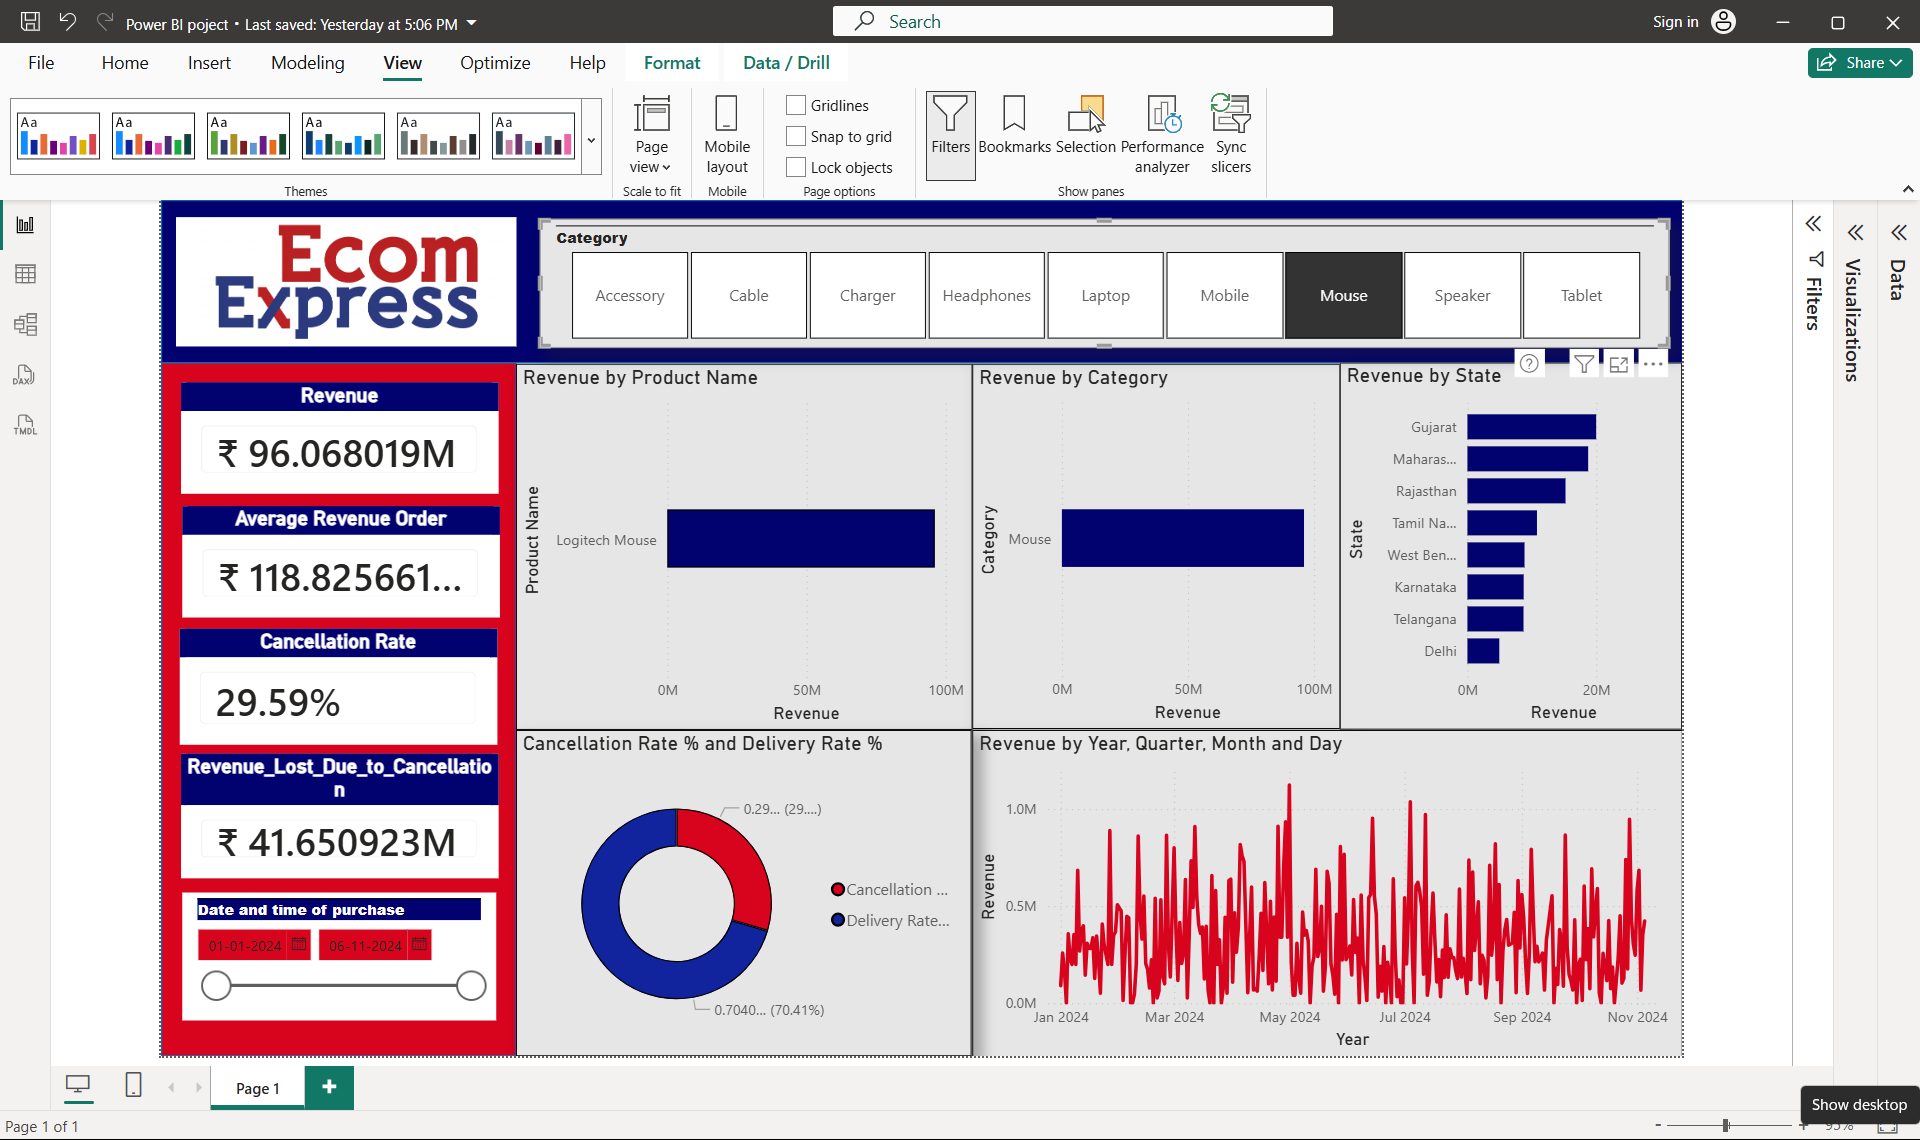

Layout of this report page (visuals, bound fields, positions):
{"tool":"powerbi","page":{"name":"Page 1","canvas":[1280,720],"ordinal":0},"visuals":[{"type":"shape","box":[0,0,1280.3,137.2],"z":0},{"type":"shape","box":[0,136.9,299,583.6],"z":1000},{"type":"image","box":[12.3,0,286.8,137.2],"z":2000},{"type":"barChart","fields":{"Y":["table.Revenue"],"Category":["Products.Product Name"]},"box":[298.6,137.7,383.8,308.1],"z":3000},{"type":"barChart","fields":{"Category":["Products.Category"],"Y":["table.Revenue"]},"box":[682,138.1,309.8,307.4],"z":4000},{"type":"lineChart","fields":{"Category":["Orders.Date and time of purchase.Variation.Date Hierarchy.Year","Orders.Date and time of purchase.Variation.Date Hierarchy.Quarter","Orders.Date and time of purchase.Variation.Date Hierarchy.Month","Orders.Date and time of purchase.Variation.Date Hierarchy.Day"],"Y":["table.Revenue"]},"box":[682,445.5,598,275],"z":5000},{"type":"barChart","fields":{"Category":["Customers.State"],"Y":["table.Revenue"]},"box":[991.8,136.9,288.2,308.6],"z":6000},{"type":"slicer","fields":{"Values":["Products.Category"]},"box":[318.6,15.4,950.2,109],"z":7000},{"type":"cardVisual","title":"Revenue","fields":{"Data":["table.Revenue"]},"box":[16.8,153.7,266.9,93.6],"z":8000},{"type":"cardVisual","title":"Average Revenue Order","fields":{"Data":["table.AverageRevenueOrder"]},"box":[18.2,257.1,266.9,93.6],"z":9000},{"type":"cardVisual","title":"Cancellation Rate","fields":{"Data":["table.Cancellation Rate"]},"box":[15.4,360.5,266.9,97.8],"z":10000},{"type":"cardVisual","title":"Revenue_Lost_Due_to_Cancellation","fields":{"Data":["table.Revenue_Lost"]},"box":[16.8,465.3,266.9,104.8],"z":11000},{"type":"slicer","fields":{"Values":["Orders.Date and time of purchase"]},"box":[18.2,582.7,264.1,107.6],"z":12000},{"type":"donutChart","fields":{"Y":["table.Cancellation Rate","table.Delivery Rate %"]},"box":[299,446,383,274],"z":13000}]}

Visuals, with their boxes on the page's 1280x720 design canvas (x1, y1, x2, y2). These are canvas units, not pixel positions in the 1920x1140 screenshot, which may show the page scaled, cropped or inside an application window:
shape: <box>0,0,1280,137</box>
shape: <box>0,137,299,720</box>
image: <box>12,0,299,137</box>
barChart - table.Revenue x Products.Product Name: <box>299,138,682,446</box>
barChart - Products.Category x table.Revenue: <box>682,138,992,446</box>
lineChart - Orders.Date and time of purchase.Variation.Date Hierarchy.Year x Orders.Date and time of purchase.Variation.Date Hierarchy.Quarter: <box>682,446,1280,720</box>
barChart - Customers.State x table.Revenue: <box>992,137,1280,446</box>
slicer - Products.Category: <box>319,15,1269,124</box>
"Revenue" cardVisual: <box>17,154,284,247</box>
"Average Revenue Order" cardVisual: <box>18,257,285,351</box>
"Cancellation Rate" cardVisual: <box>15,360,282,458</box>
"Revenue_Lost_Due_to_Cancellation" cardVisual: <box>17,465,284,570</box>
slicer - Orders.Date and time of purchase: <box>18,583,282,690</box>
donutChart - table.Cancellation Rate x table.Delivery Rate %: <box>299,446,682,720</box>
